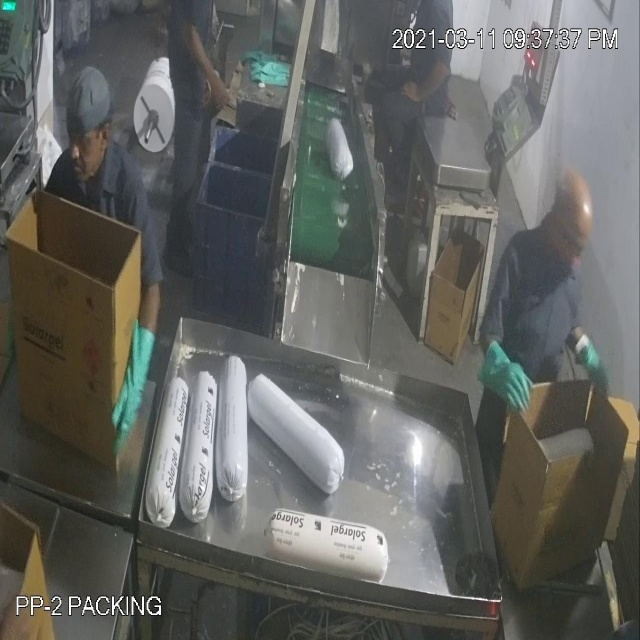Guantes: (111, 325, 159, 452), (473, 327, 532, 424), (569, 326, 608, 387)
Sin_guantes: (178, 16, 235, 116), (397, 46, 449, 111)
